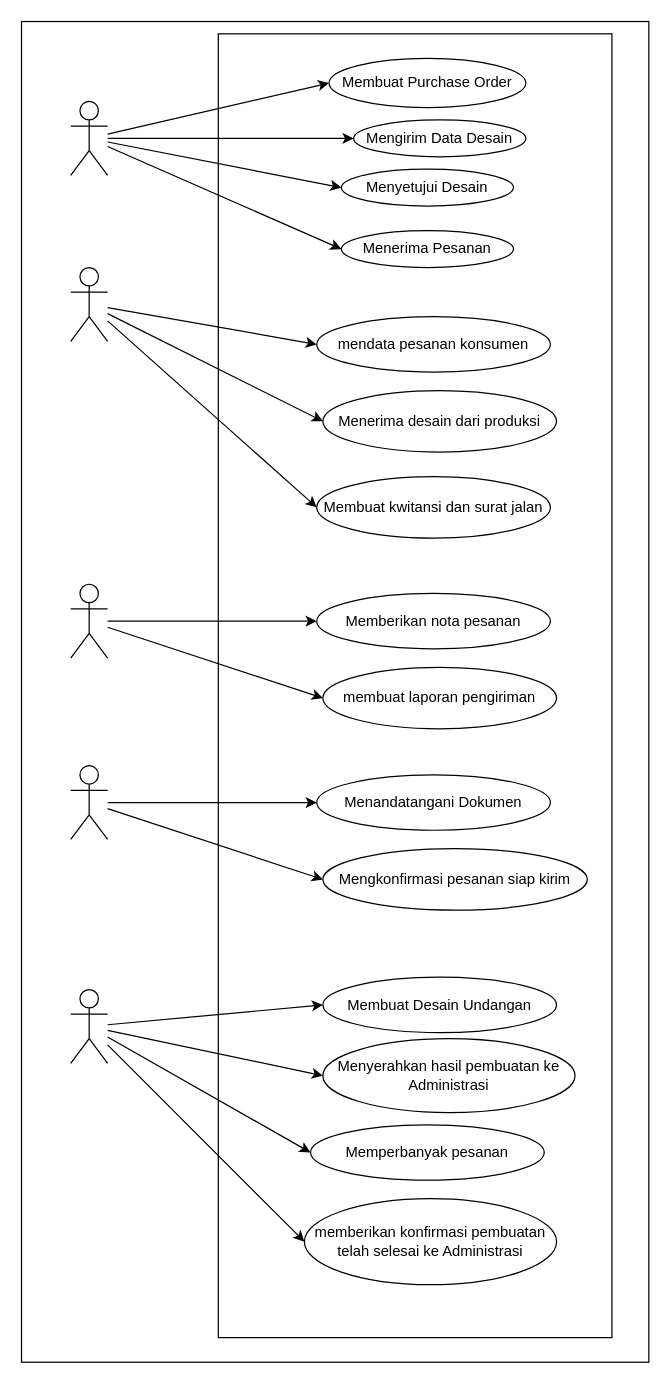
Image size: 670x1384. Some labels were removed from this diagram. Here are the shapes that lost their labels. From the top down, the box of each, then its label:
(69, 100, 108, 175): Konsumen
(69, 266, 108, 341): Administrasi
(69, 583, 108, 658): Pemasaran
(69, 764, 108, 839): Direktur
(69, 988, 108, 1063): Produksi
